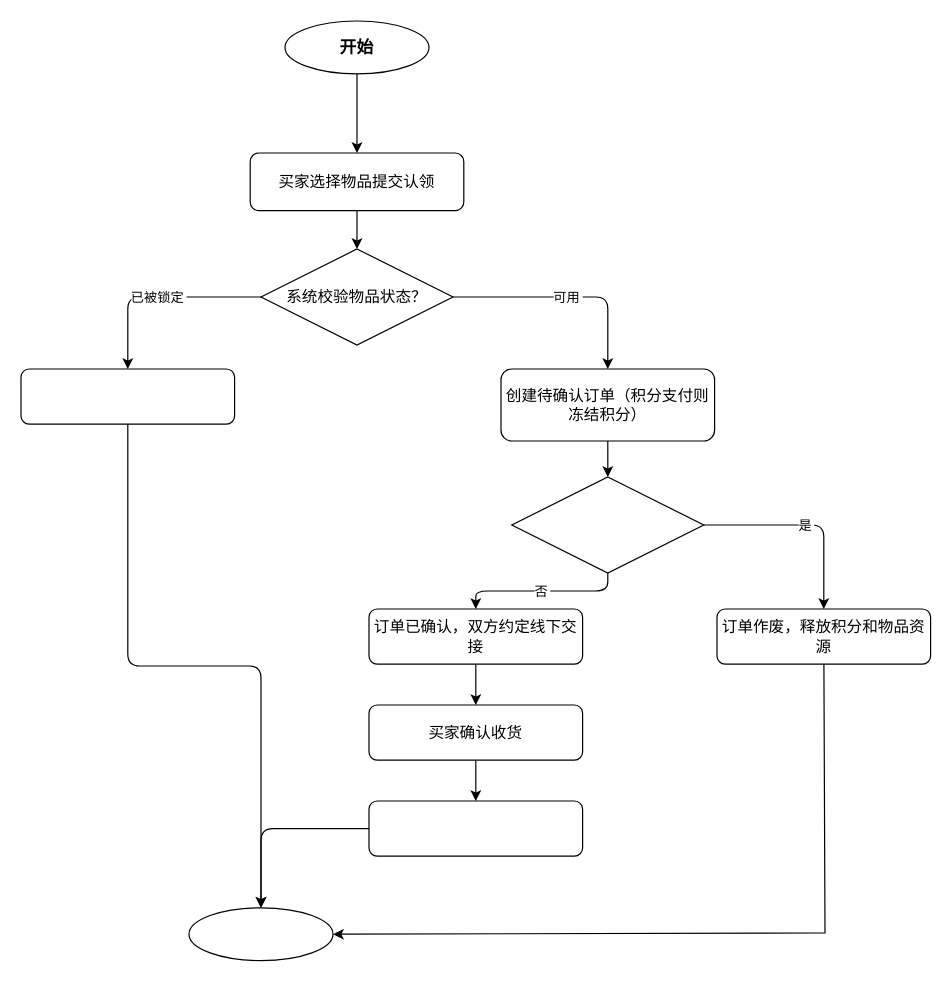
This 952x982 diagram has some shape labels left out. Each missing label, with the box of its shape:
取消/超时？: (511, 476, 704, 573)
结束: (188, 907, 333, 961)
订单已完成，自动结算积分: (368, 800, 583, 856)
认领失败（物品已锁定）: (20, 368, 235, 424)
